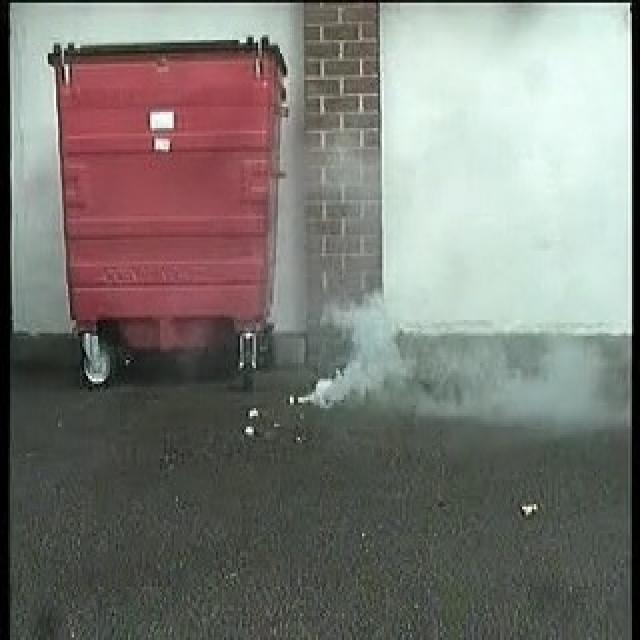Smoke: (298, 288, 604, 428)
